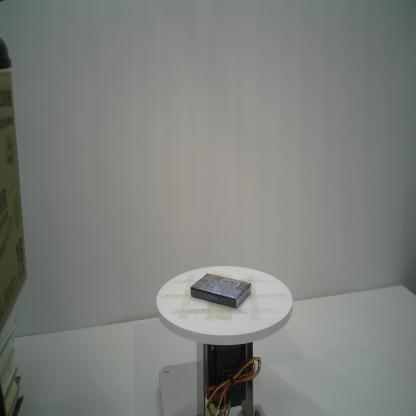Gum: (189, 272, 253, 310)
